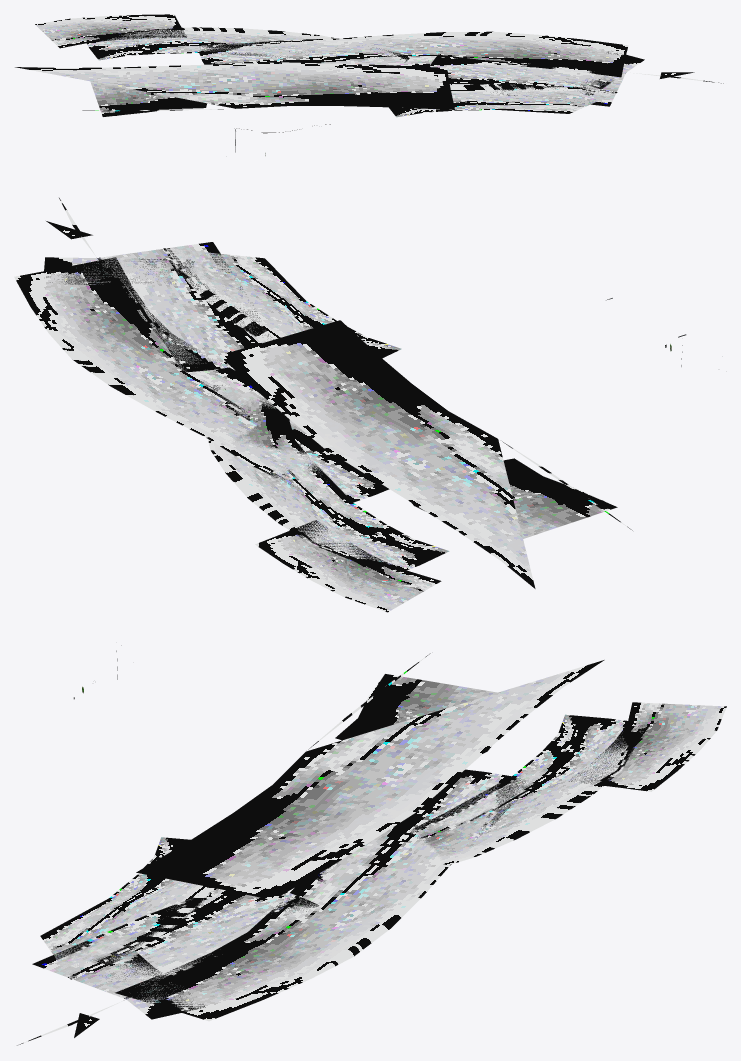
File: world_camden_18_-6.gltf
3 renders of one model, top to bottom at view 1: azimuth 30°, elevation 25°; view 2: azimuth 150°, elevation 25°; view 3: azimuth 270°, elevation 25°, orthographic. The views are drawn at different scales.
Size of the model in its own units: 261 by 20.17 by 199.
6 materials, 6 textured.
